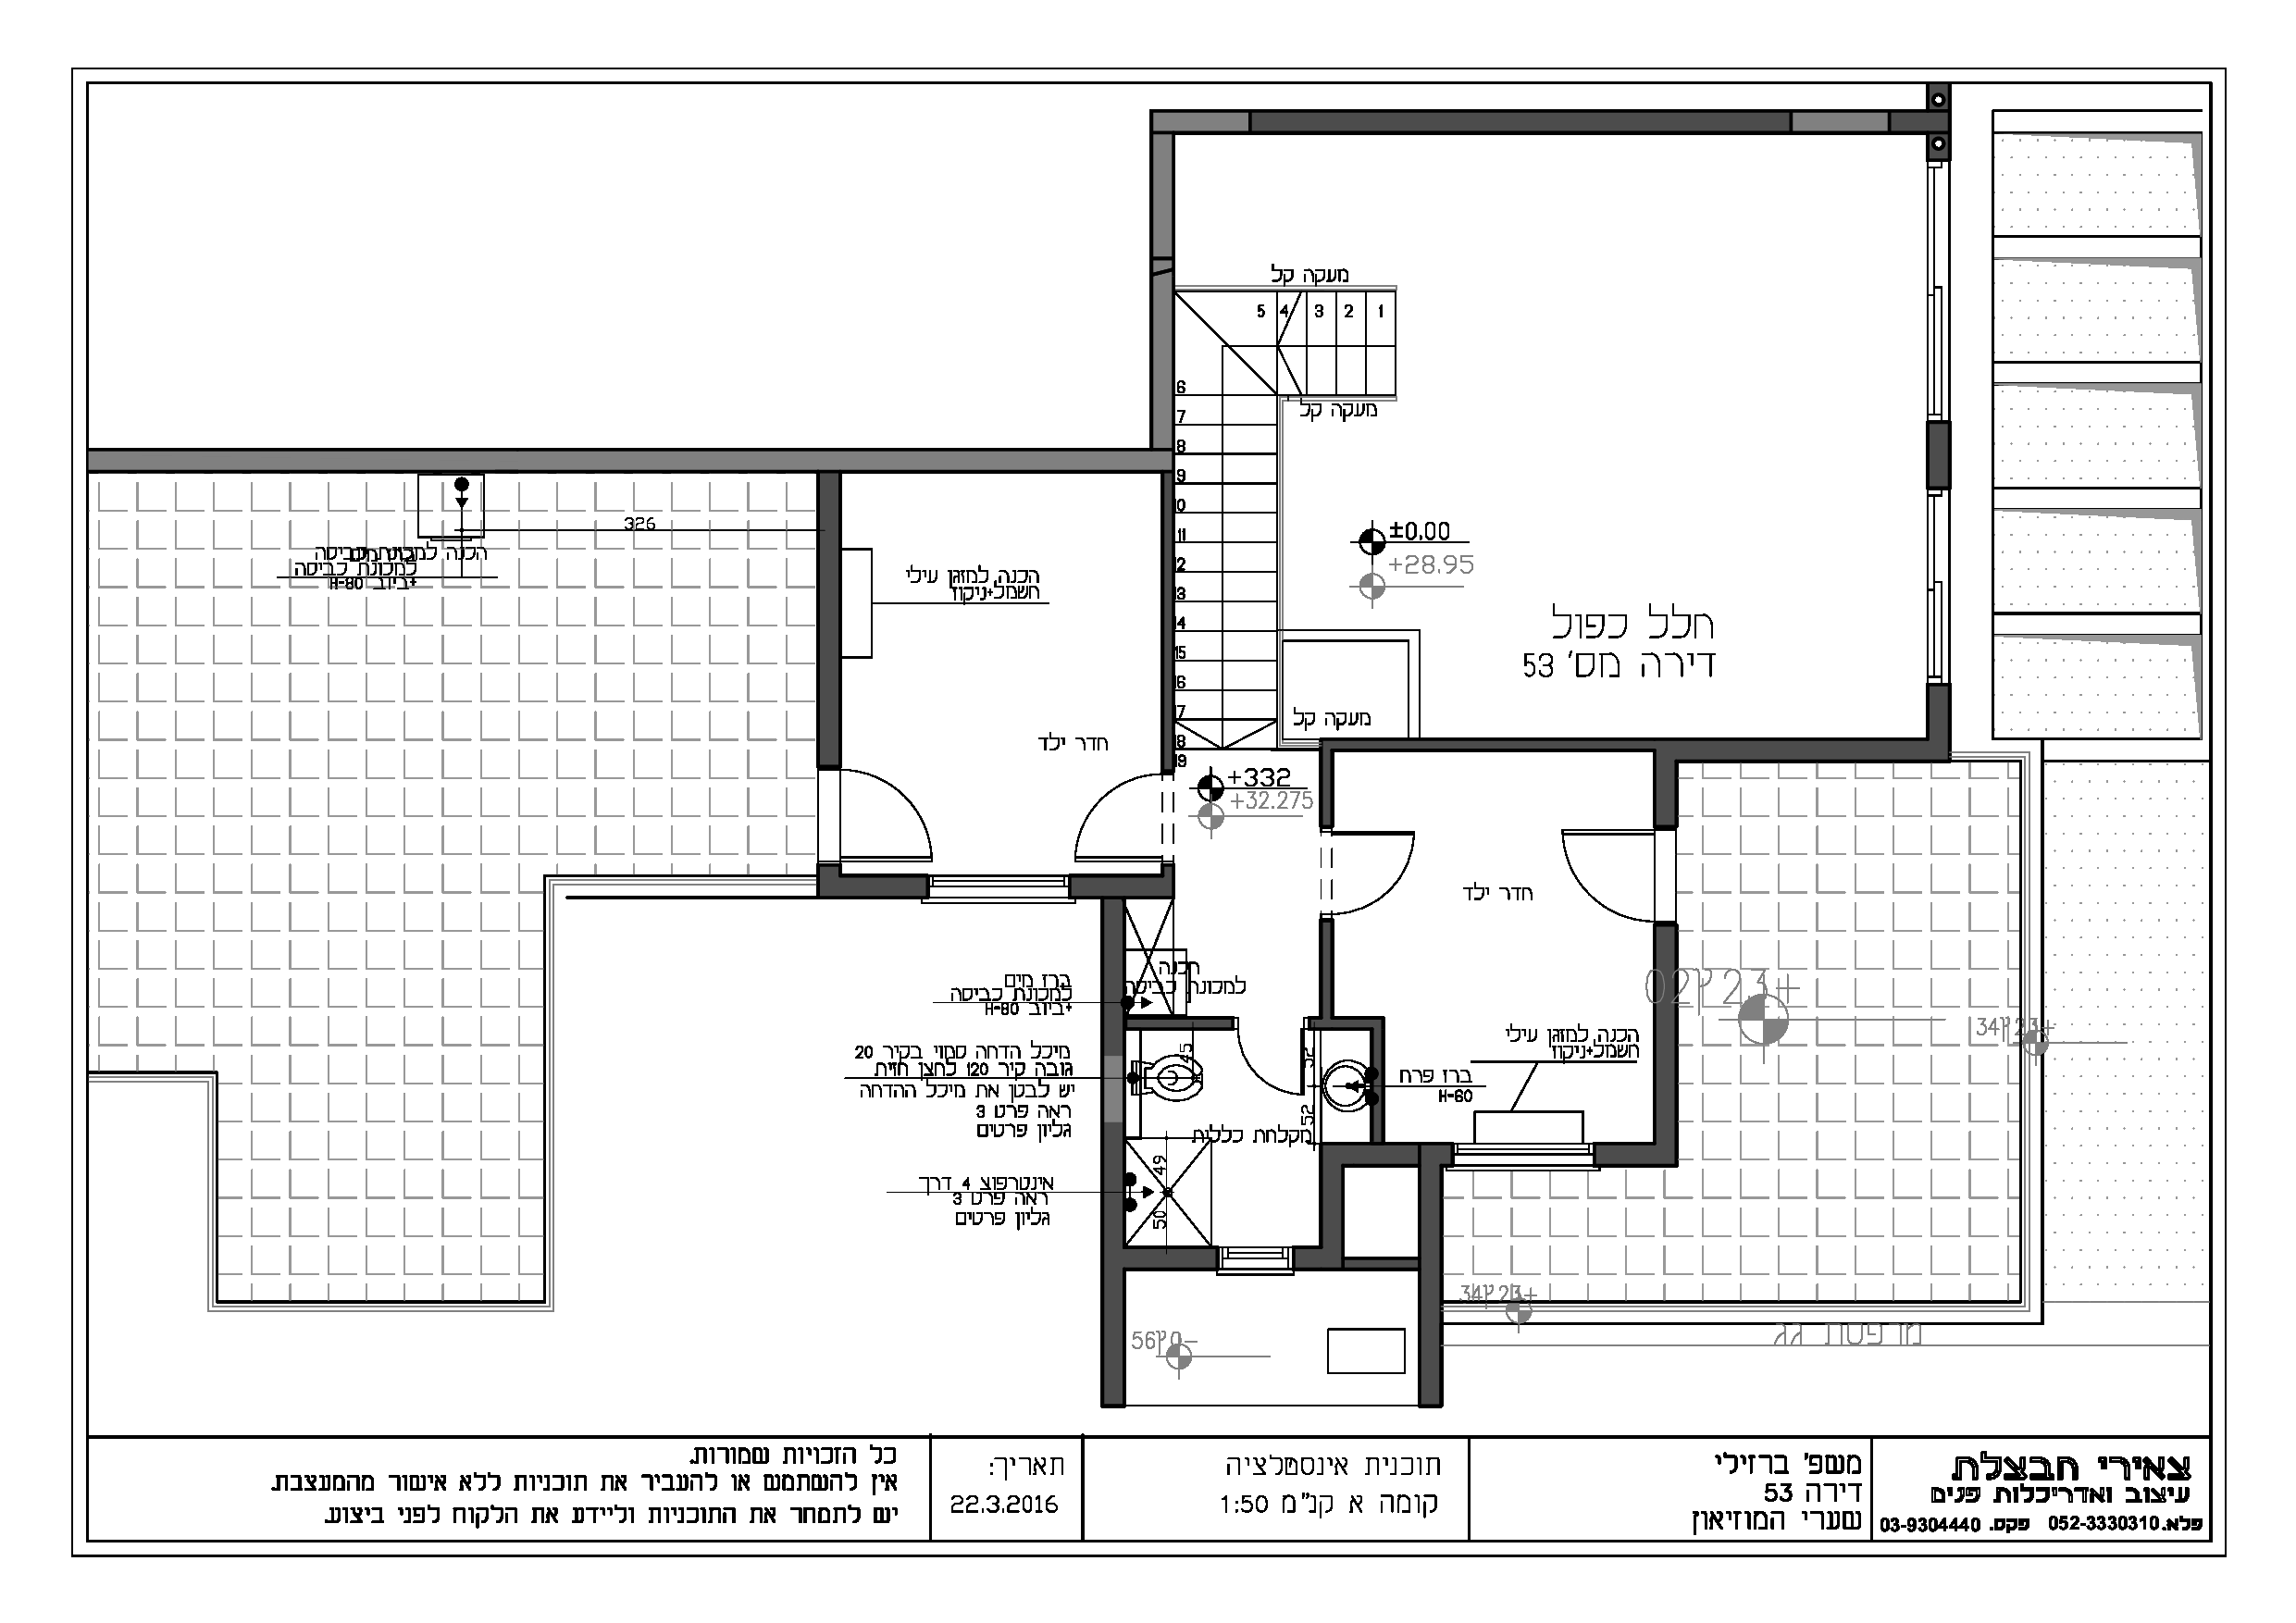door: (1063, 764, 1161, 871), (845, 764, 943, 869), (1333, 817, 1430, 922), (1555, 824, 1651, 929)
